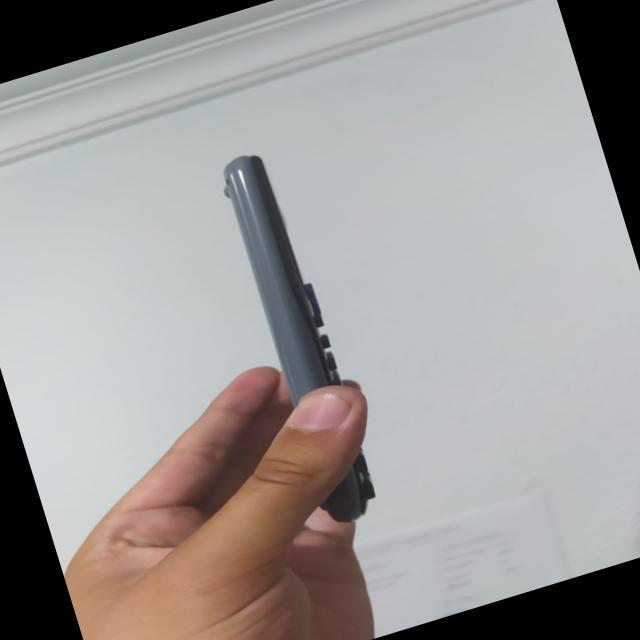Calculator: (214, 144, 388, 526)
